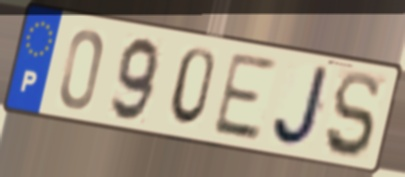0: (164, 46, 218, 130), (57, 27, 106, 112)
9: (110, 35, 162, 124)
E: (208, 48, 279, 143)
J: (270, 63, 334, 150)
S: (322, 69, 382, 161)
